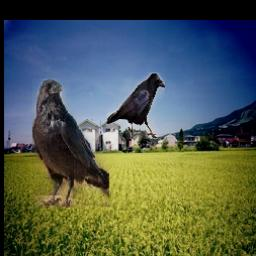Crow: (32, 78, 109, 207), (106, 73, 165, 140)
